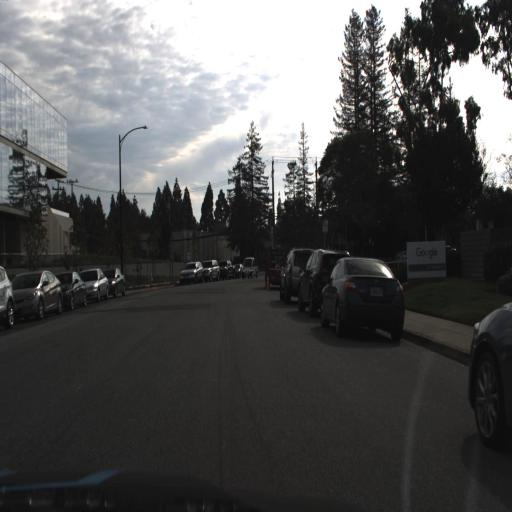car: (464, 294, 512, 470), (318, 253, 406, 342), (7, 269, 63, 329), (297, 247, 327, 312), (275, 246, 299, 304), (57, 265, 86, 311), (62, 267, 88, 318), (0, 255, 15, 335), (80, 265, 107, 306), (86, 265, 110, 304), (102, 265, 126, 300), (109, 261, 129, 300), (177, 259, 199, 287), (203, 257, 221, 284)
